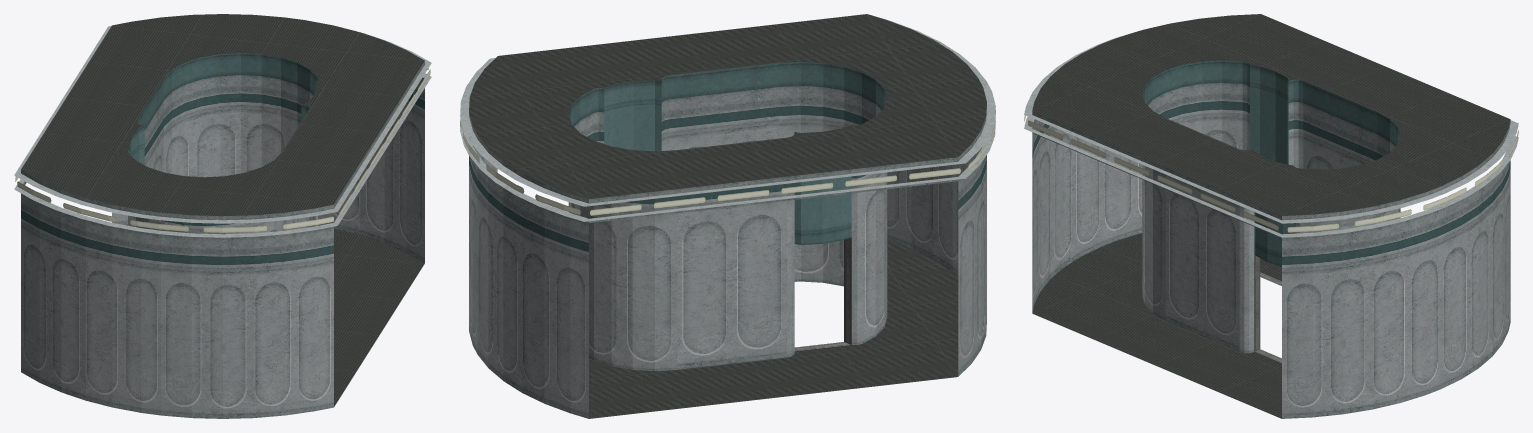
The model's file is mun_corl_hospital_s01_r4_lobbya_mesh_r4.fbx.
The picture shows the model from 3 angles, left to right: view 1: azimuth 30°, elevation 25°; view 2: azimuth 150°, elevation 25°; view 3: azimuth 270°, elevation 25°; orthographic projection. The views are drawn at different scales.
Visible parts, largest first — view 1: mesh_node; view 2: mesh_node; view 3: mesh_node.
Part boxes in pixels (box(x1,y1,x2,y2)): mesh_node: box(14, 14, 431, 418); mesh_node: box(460, 14, 995, 418); mesh_node: box(1024, 14, 1518, 418).
Size of the model in its own units: 12.41 by 5.61 by 12.41.
